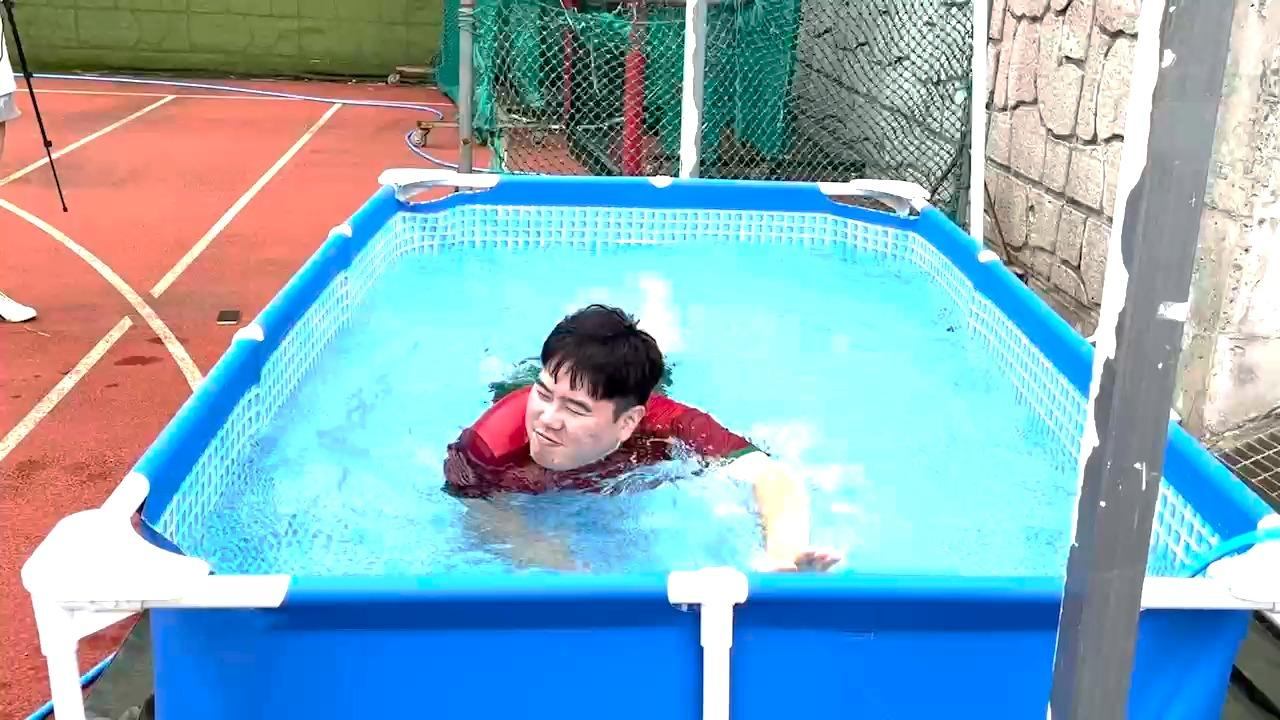Swimming: (433, 219, 866, 582)
